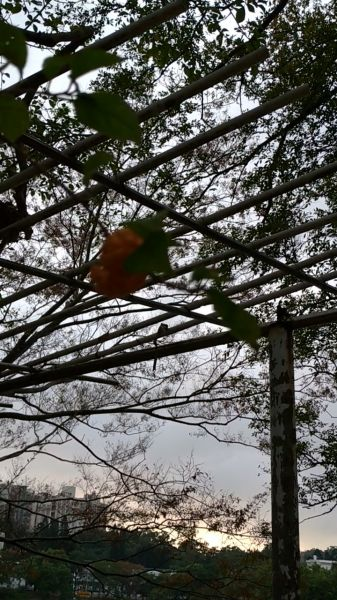eggs: (84, 221, 155, 306)
